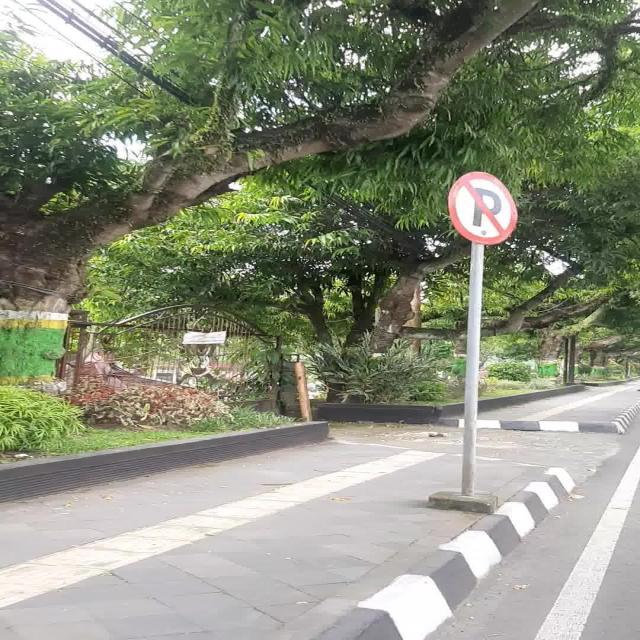Dilarang Parkir: (448, 170, 518, 246)
